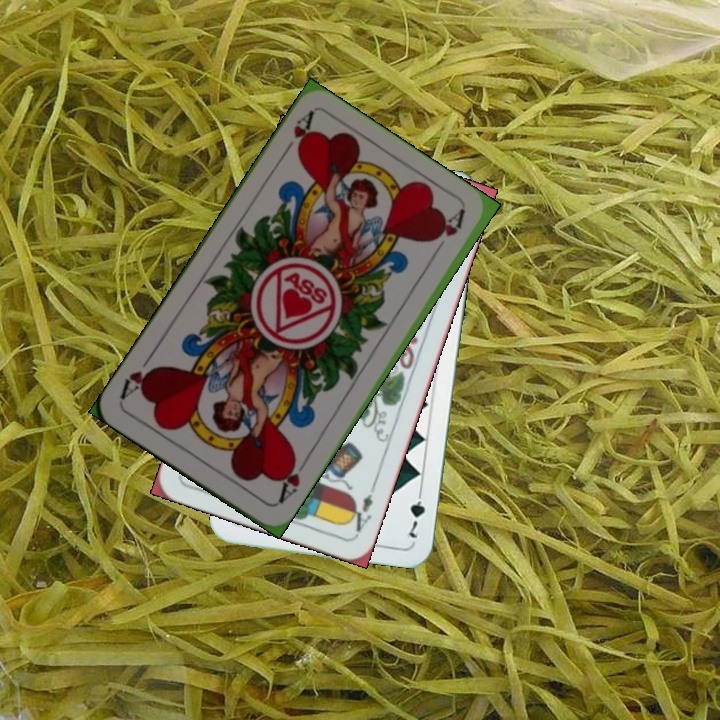EA: (345, 480, 378, 537)
G7: (405, 484, 428, 541)
HA: (277, 108, 316, 161), (274, 452, 311, 506)
